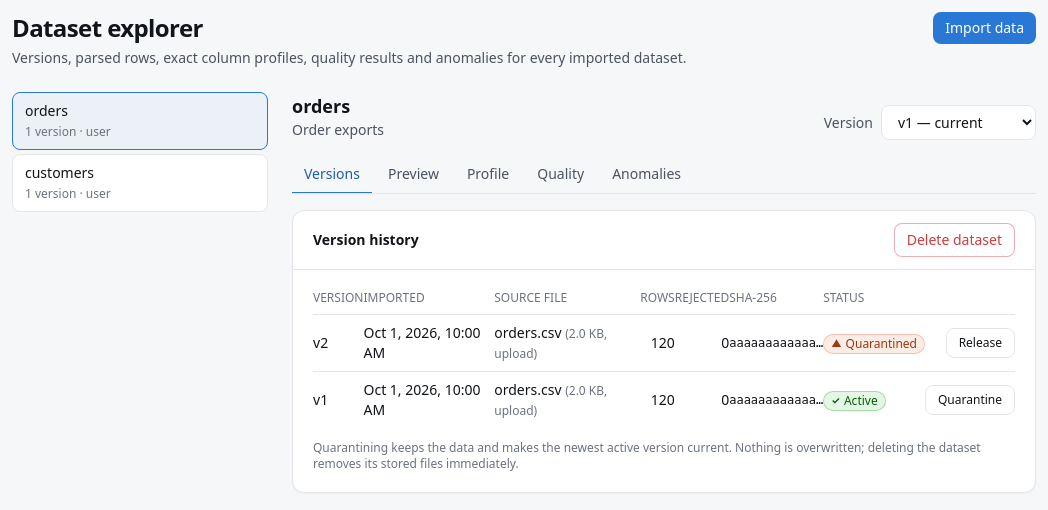
DatasetsPage › lists datasets and switches the selected dataset
Expected: the heading "orders" is shown, [292,94,350,118]
Click the button "customers 1 version · user" at (140, 183), box [12,154,268,212]
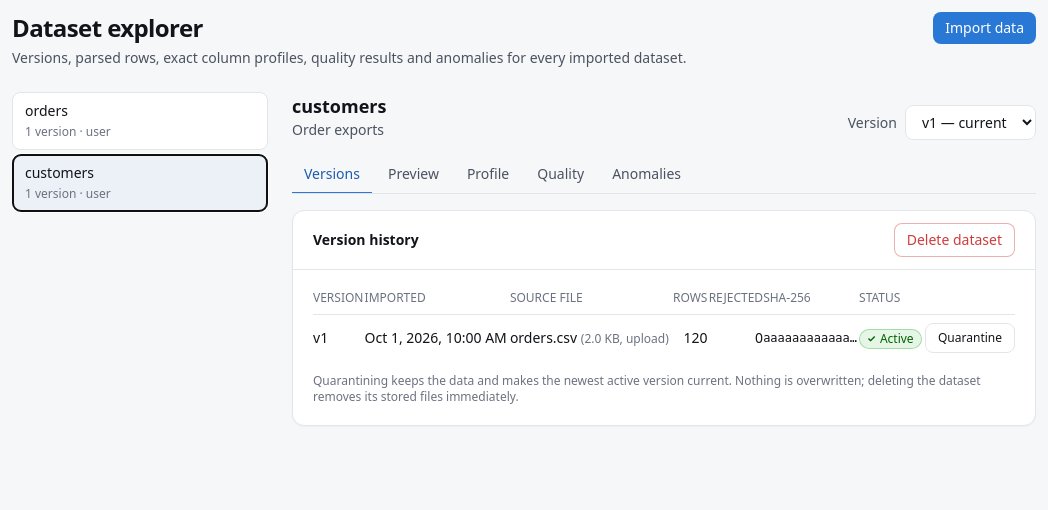
Now the heading "customers" is shown, box [292,92,386,120]
